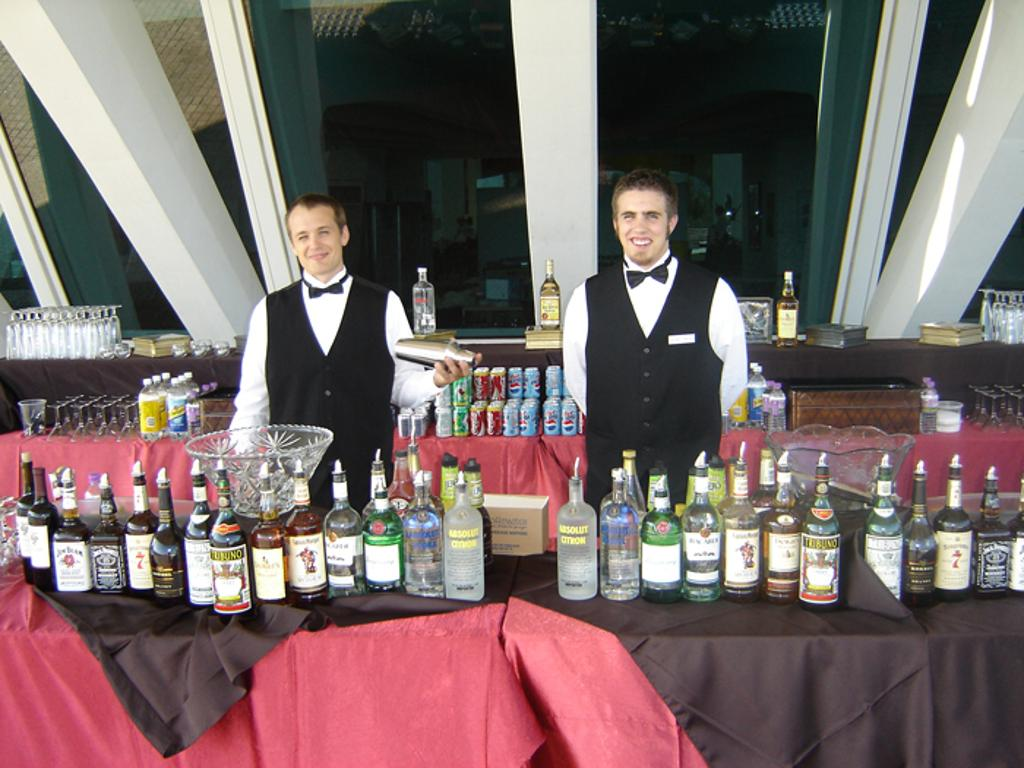face: (612, 182, 668, 264), (288, 200, 344, 276)
